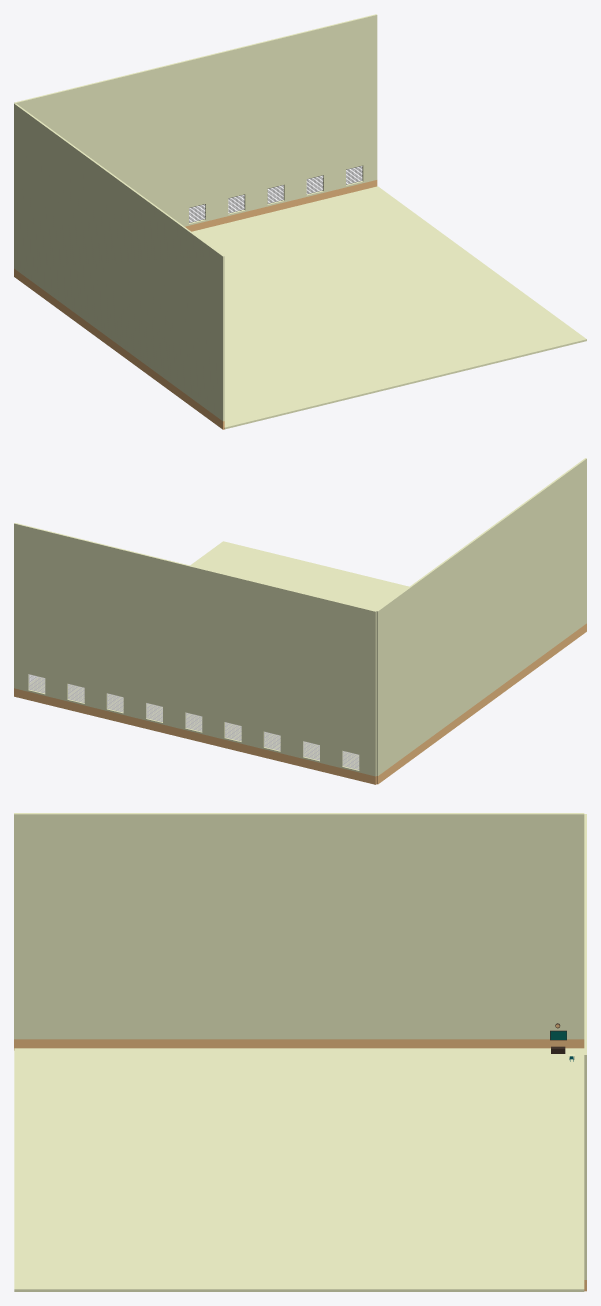
Rendered from Classroom.glb.
3 views of the same model, one above another, from view 1: azimuth 30°, elevation 25°; view 2: azimuth 150°, elevation 25°; view 3: azimuth 270°, elevation 25° (orthographic). The views are drawn at different scales.
Visible parts, largest first — view 1: Floor, left-wall.001, left-wall.002, Cube; view 2: left-wall.001, left-wall.002, Floor, Cube; view 3: Floor, left-wall.002, left-wall.001.
Part boxes in pixels (x1,y1,x2,y2): Floor: [192, 186, 586, 429]; left-wall.001: [14, 14, 377, 231]; left-wall.002: [14, 103, 224, 429]; Cube: [189, 165, 362, 222]; left-wall.001: [14, 523, 376, 784]; left-wall.002: [376, 458, 586, 784]; Floor: [29, 541, 408, 768]; Cube: [28, 674, 359, 769]; Floor: [14, 1048, 584, 1291]; left-wall.002: [14, 813, 584, 1050]; left-wall.001: [584, 814, 586, 1291].
Bounding box in the file's own units: 101 × 45.75 × 100.
